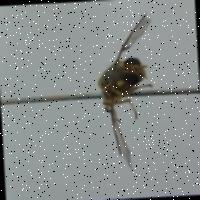Oriental-fruit-fly: (82, 3, 180, 176)
